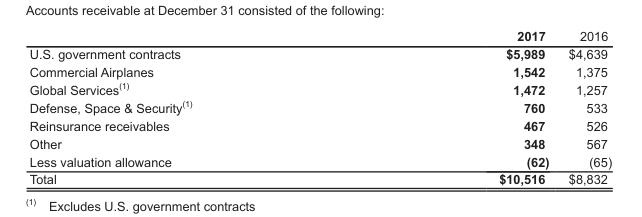table: (28, 28, 611, 186)
table column: (28, 28, 344, 186), (344, 28, 558, 186), (558, 28, 611, 186)
table column header: (28, 28, 611, 44)
table row: (28, 97, 611, 116), (28, 44, 611, 62), (28, 79, 611, 97), (28, 116, 611, 134), (28, 134, 611, 152), (28, 152, 611, 170), (28, 62, 611, 79), (28, 28, 611, 44), (28, 170, 611, 186)
